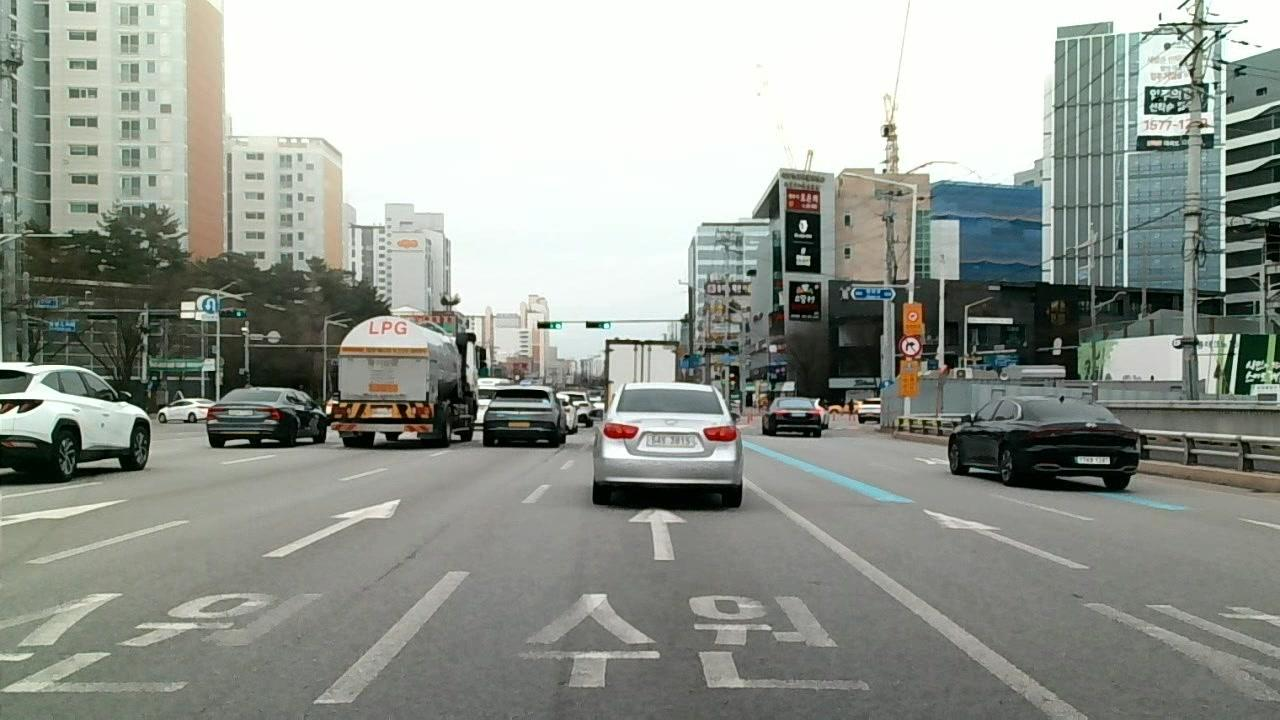banner: (361, 522, 449, 592)
